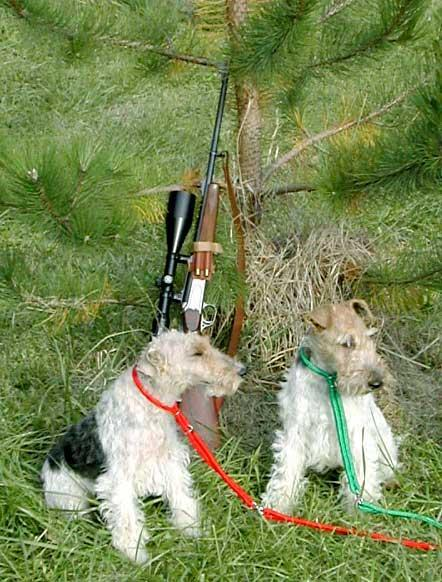wire-haired_fox_terrier: (29, 322, 246, 568), (256, 297, 399, 513)
